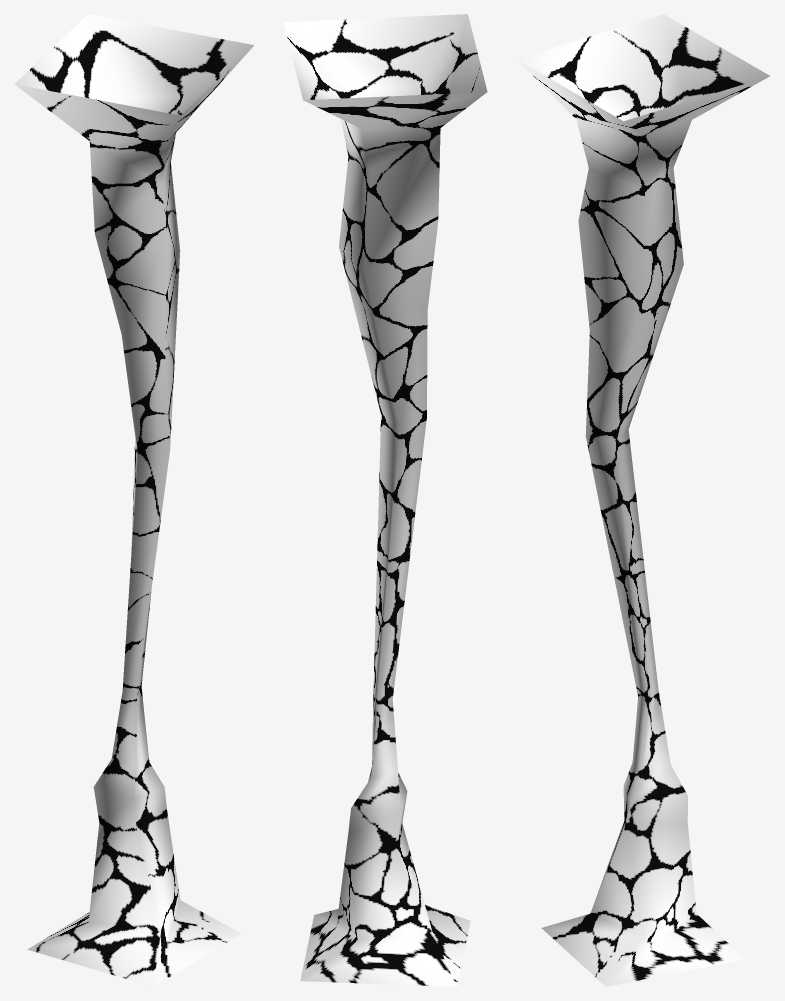
The model's file is Stone_04_01.fbx.
3 views of the same model, side by side, from view 1: azimuth 30°, elevation 25°; view 2: azimuth 150°, elevation 25°; view 3: azimuth 270°, elevation 25° (orthographic). The views are drawn at different scales.
Visible parts, largest first — view 1: Stone_04_01; view 2: Stone_04_01; view 3: Stone_04_01.
Boxes of the visible parts, x1,y1,x2,y2 form: Stone_04_01: [14, 14, 254, 986]; Stone_04_01: [283, 14, 487, 986]; Stone_04_01: [516, 14, 769, 986].
Size of the model in its own units: 13.39 by 50.93 by 13.39.
